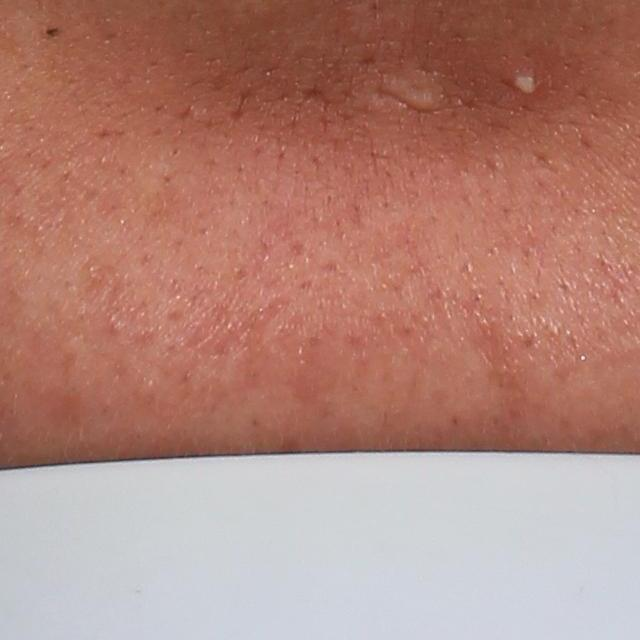hypertrophic_scar: (386, 77, 440, 112)
nevus: (44, 27, 62, 37)
pustule: (496, 58, 553, 99)
